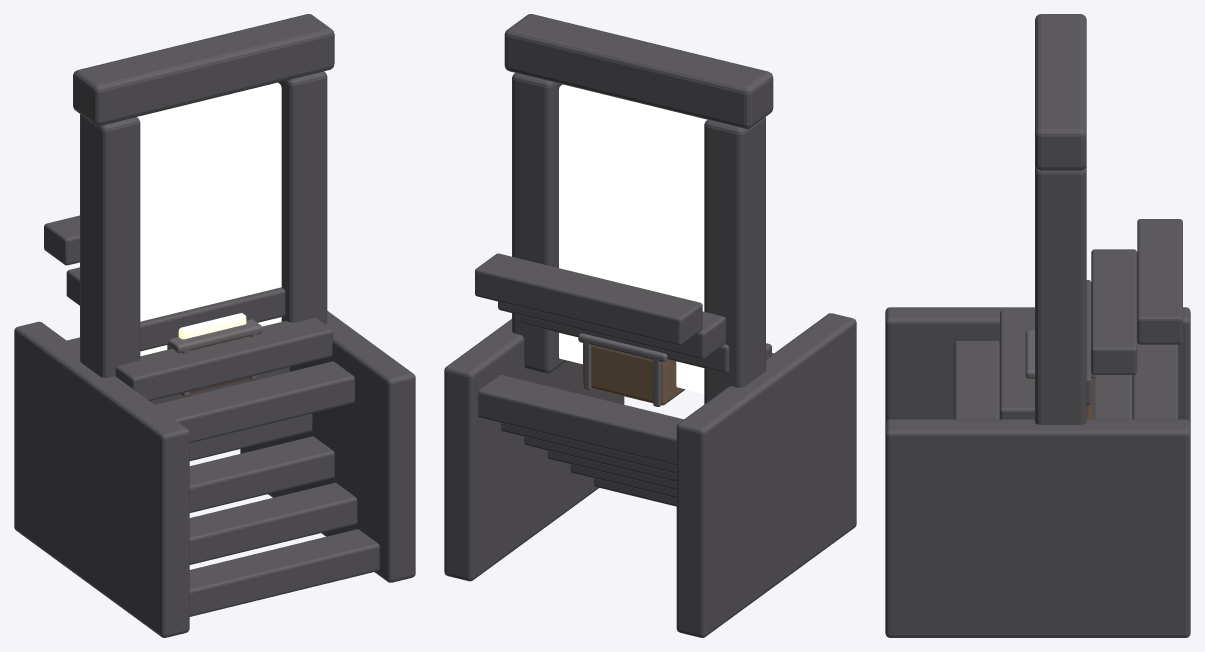
File: props.glb
3 renders of one model, left to right at view 1: azimuth 30°, elevation 25°; view 2: azimuth 150°, elevation 25°; view 3: azimuth 270°, elevation 25°, orthographic. The views are drawn at different scales.
Visible parts, largest first — view 1: Prop_StairsDown, Prop_Exit, Prop_StairsUp, Prop_Treasure; view 2: Prop_StairsDown, Prop_Exit, Prop_StairsUp, Prop_Treasure; view 3: Prop_StairsDown, Prop_Exit, Prop_StairsUp, Prop_Treasure.
Part boxes in pixels (x1,y1,x2,y2): Prop_StairsDown: (14, 311, 415, 637); Prop_Exit: (73, 14, 334, 377); Prop_StairsUp: (44, 215, 354, 442); Prop_Treasure: (167, 313, 262, 396); Prop_StairsDown: (444, 313, 856, 637); Prop_Exit: (504, 14, 773, 404); Prop_StairsUp: (475, 253, 773, 373); Prop_Treasure: (578, 333, 685, 406); Prop_StairsDown: (885, 307, 1190, 637); Prop_Exit: (1035, 14, 1086, 424); Prop_StairsUp: (954, 219, 1182, 419); Prop_Treasure: (1025, 330, 1095, 419).
Size of the model in its own units: 1.96 by 3.65 by 2.
